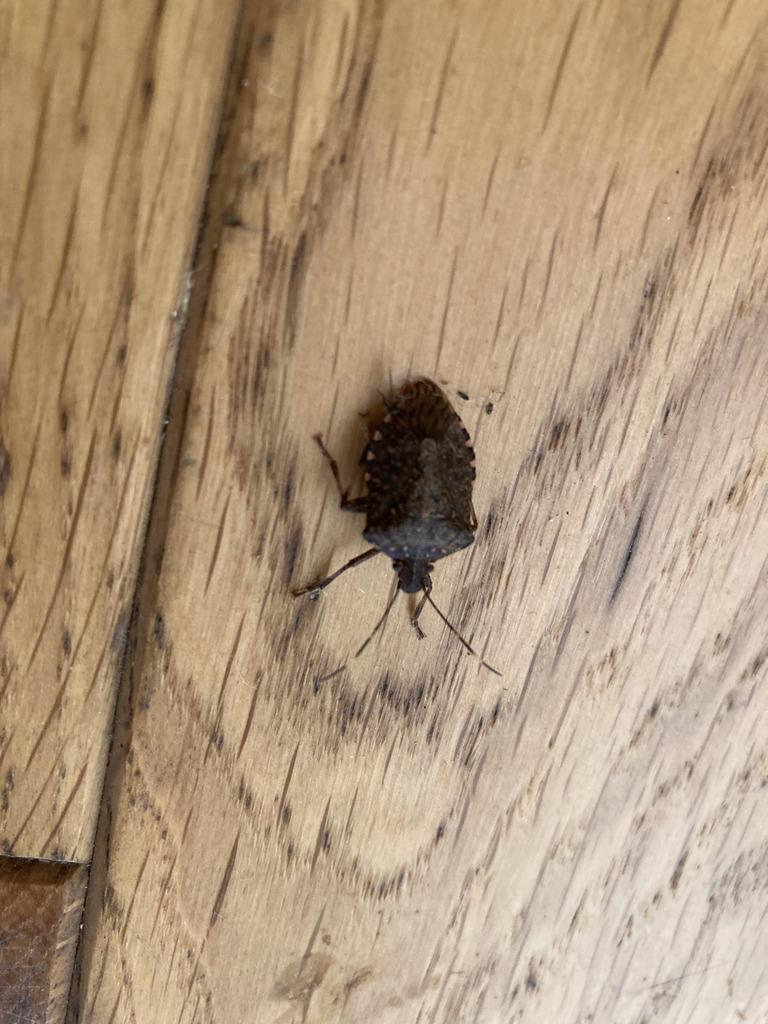stink_bugs: (245, 336, 598, 730)
